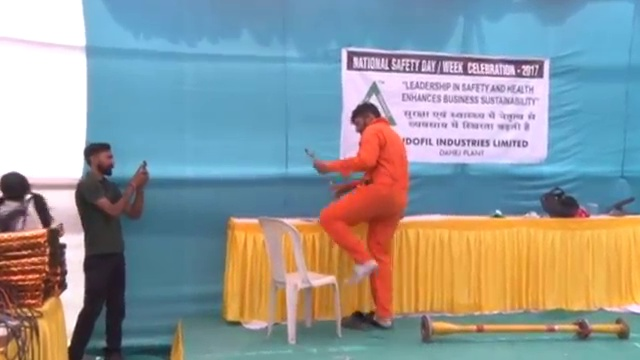helmet_off: (83, 140, 117, 179), (351, 102, 380, 137)
person: (308, 103, 409, 333), (67, 141, 152, 360), (1, 170, 54, 238)
